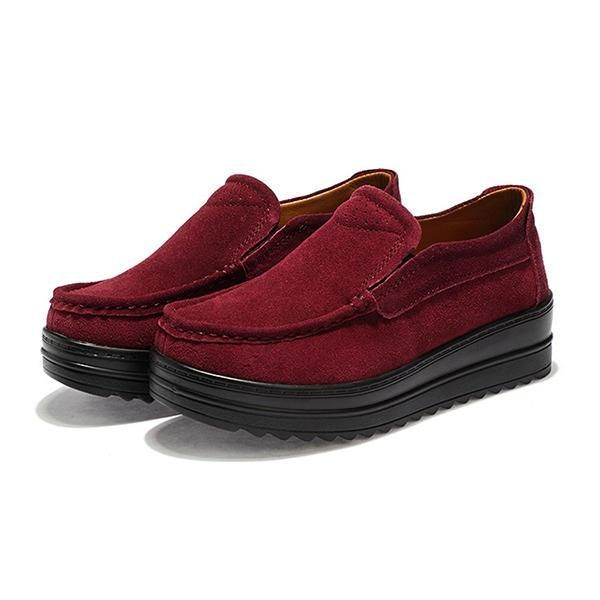gamuza: (47, 168, 550, 387)
